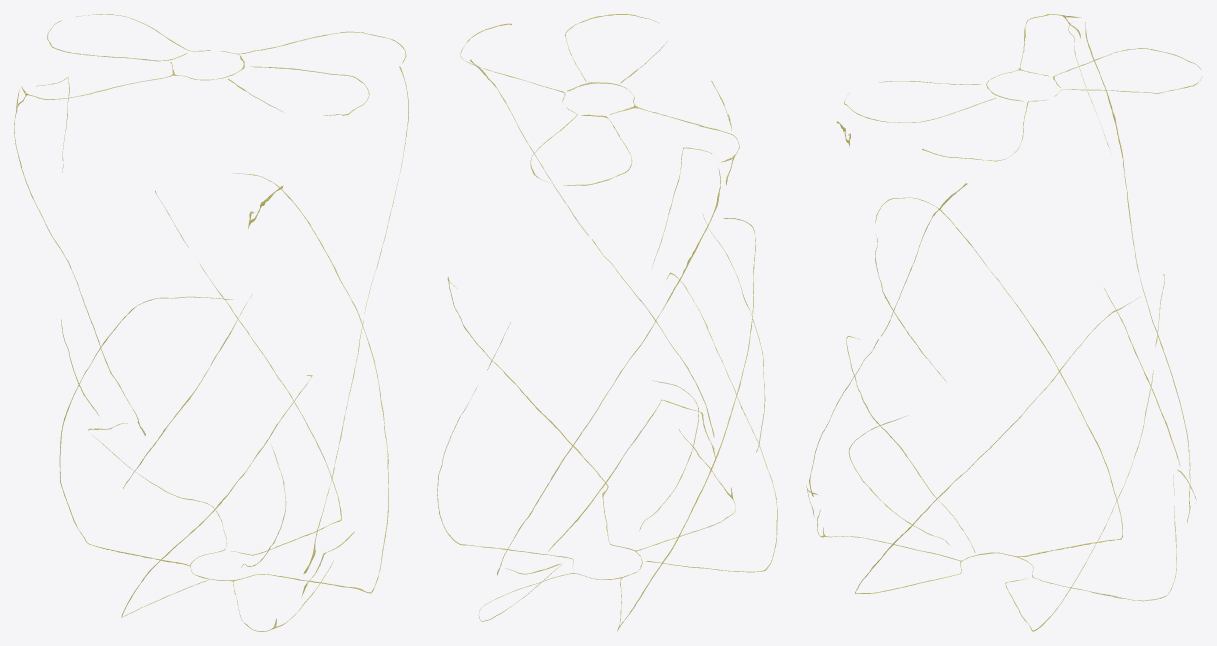
File: transcendence.glb
3 renders of one model, left to right at view 1: azimuth 30°, elevation 25°; view 2: azimuth 150°, elevation 25°; view 3: azimuth 270°, elevation 25°, orthographic. The views are drawn at different scales.
Parts seen in each view (by area): view 1: Mesh_0; view 2: Mesh_0; view 3: Mesh_0.
Part boxes in pixels (bbox=[...]): Mesh_0: bbox=[14, 14, 408, 631]; Mesh_0: bbox=[437, 14, 777, 631]; Mesh_0: bbox=[806, 14, 1202, 631].
Size of the model in its own units: 1.37 by 2.05 by 1.49.
1 material, 1 textured.
